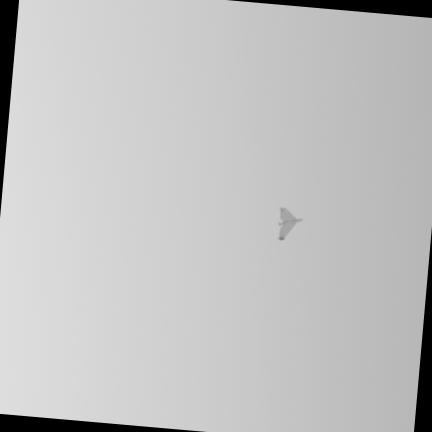Shahed: (279, 208, 302, 239)
